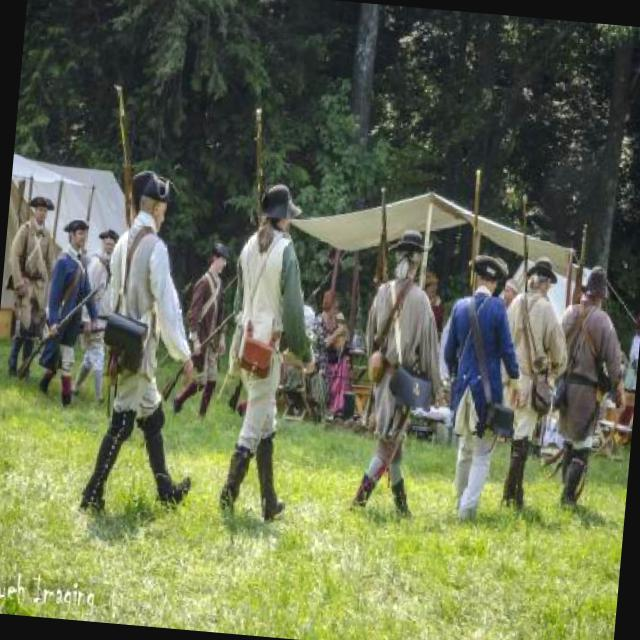Person: (77, 164, 220, 528), (212, 182, 328, 522), (347, 225, 458, 524), (430, 253, 530, 523), (487, 252, 575, 514), (544, 263, 632, 515), (36, 214, 105, 410), (169, 238, 238, 419), (0, 192, 60, 385), (68, 225, 122, 414), (277, 298, 336, 422), (308, 288, 352, 380), (433, 296, 460, 383), (418, 270, 449, 328), (620, 311, 640, 398), (498, 277, 522, 310)
